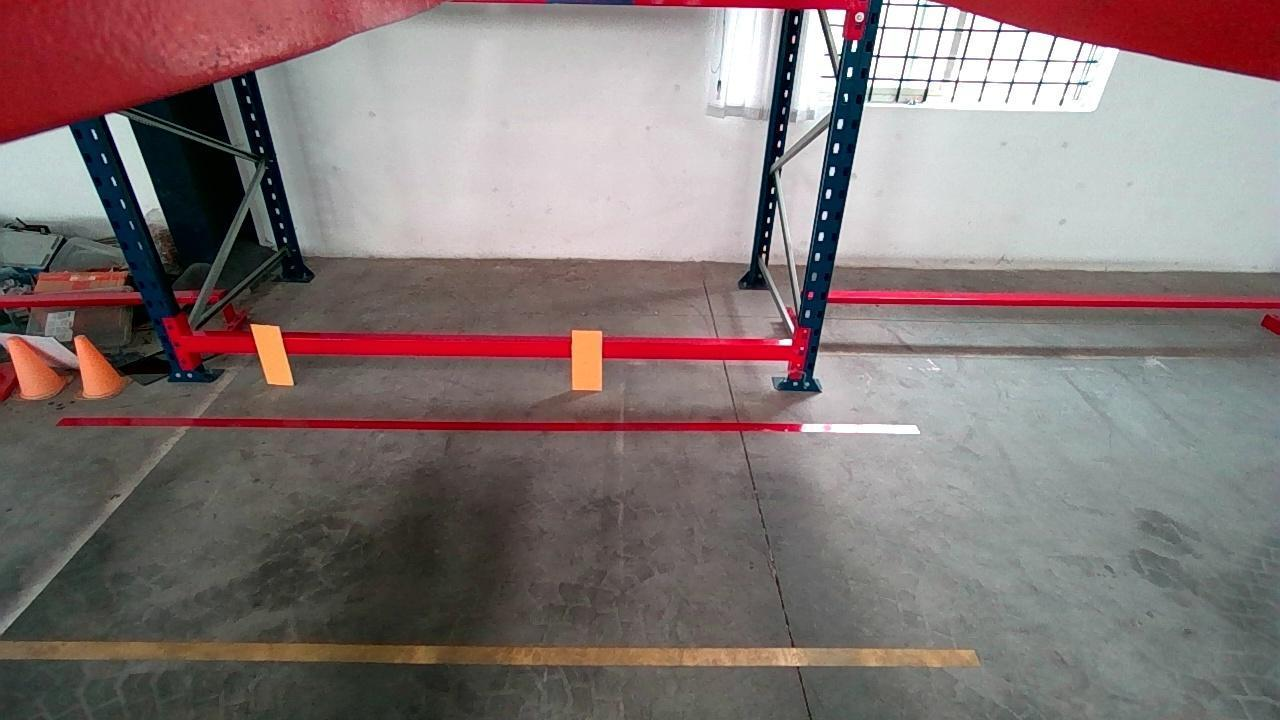h_rack: (182, 335, 792, 358)
orange_strip: (251, 325, 291, 383), (570, 328, 603, 390)
red_line: (55, 415, 921, 435)
yellow_line: (0, 636, 977, 662)
